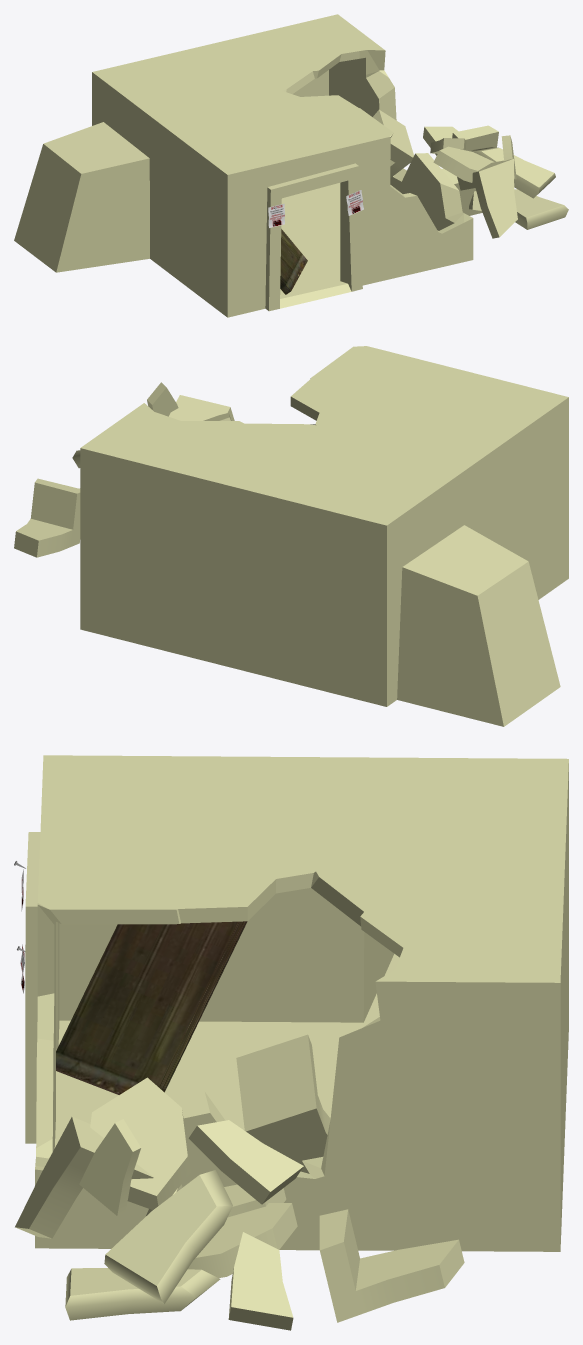
The model's file is DestroyedHouse.fbx.
3 views of the same model, one above another, from view 1: azimuth 30°, elevation 25°; view 2: azimuth 150°, elevation 25°; view 3: azimuth 270°, elevation 25° (orthographic). The views are drawn at different scales.
Parts seen in each view (by area): view 1: DamagedHouse, pCube12, pCube7, pCube1, pCube3, pCube10, pCube9, pCube13, pCube6, pCube8; view 2: DamagedHouse, pCube3, pCube12, pCube11; view 3: DamagedHouse, pCube13, pCube3, pCube9, pCube7, pCube10, pCube12, pCube1, pCube8, pCube2, pCube4, pCube11 (+1 smaller).
Boxes of the visible parts, x1,y1,x2,y2 form: DamagedHouse: (14, 14, 473, 317); pCube12: (457, 158, 517, 238); pCube7: (470, 147, 555, 198); pCube1: (514, 189, 568, 229); pCube3: (423, 125, 498, 155); pCube10: (433, 146, 494, 182); pCube9: (373, 109, 413, 177); pCube13: (280, 229, 307, 294); pCube6: (447, 175, 476, 214); pCube8: (430, 138, 466, 153); DamagedHouse: (80, 346, 568, 726); pCube3: (14, 478, 80, 557); pCube12: (169, 395, 234, 420); pCube11: (147, 382, 178, 416); DamagedHouse: (25, 755, 568, 1251); pCube13: (56, 921, 247, 1094); pCube3: (319, 1209, 464, 1322); pCube9: (236, 1034, 330, 1162); pCube7: (104, 1170, 232, 1303); pCube10: (90, 1077, 190, 1209); pCube12: (15, 1116, 153, 1238); pCube1: (65, 1268, 220, 1320); pCube8: (188, 1120, 303, 1204); pCube2: (228, 1232, 293, 1330); pCube4: (188, 1203, 297, 1277); pCube11: (79, 1119, 140, 1215).
Bounding box in the file's own units: 7.38 × 2.28 × 4.26.
Materials: 4 (2 with a texture image).
